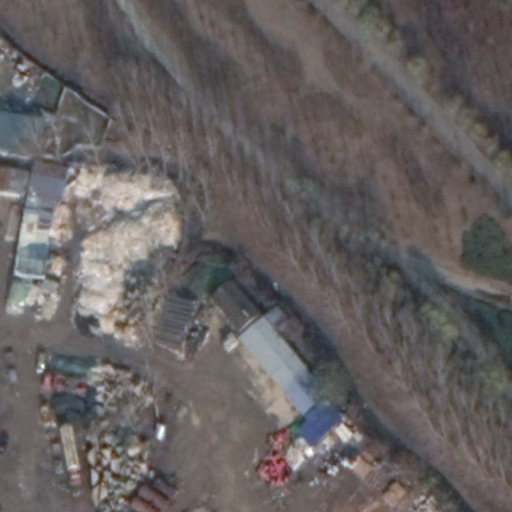msw: (46, 165, 181, 338)
